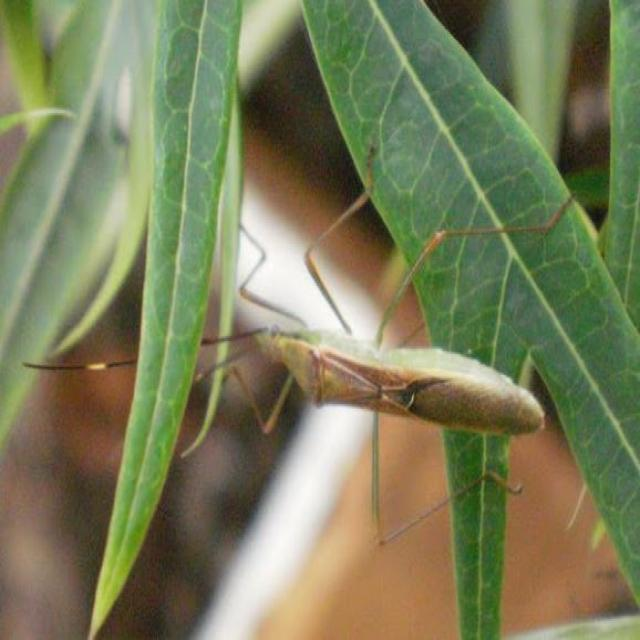walang sangit pada tanaman padi: (22, 186, 606, 544)
